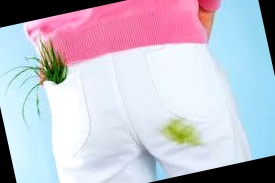earth: (162, 118, 200, 148)
